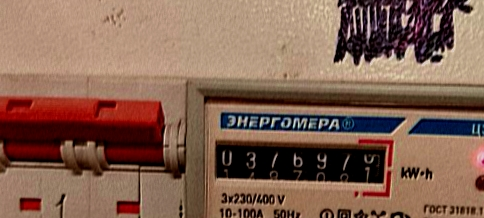0: (222, 147, 236, 167)
1: (364, 164, 375, 183)
3: (246, 149, 260, 170)
6: (293, 147, 307, 168)
7: (269, 148, 283, 169), (341, 150, 354, 172)
9: (317, 150, 330, 171)
screen: (209, 132, 400, 198)
